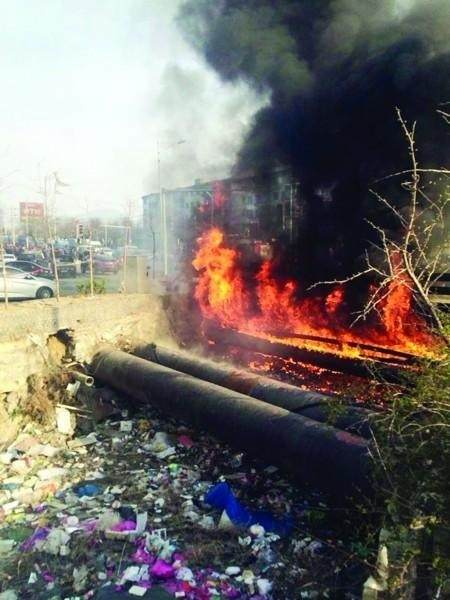fire: (192, 230, 435, 384)
